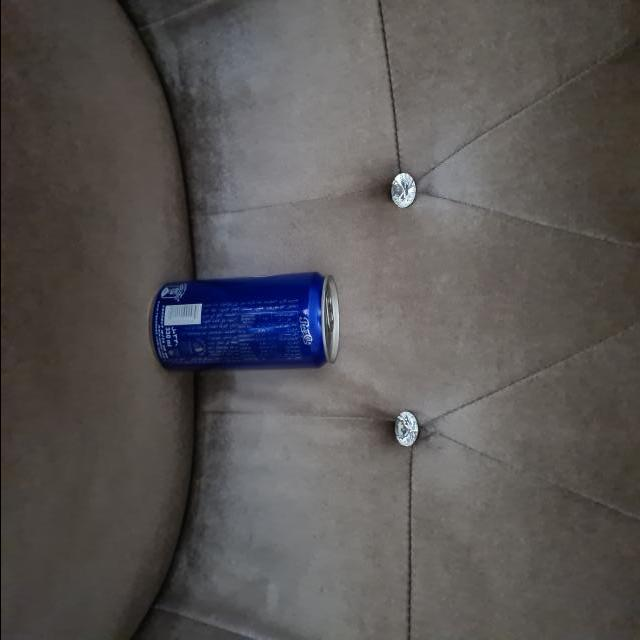can: (150, 272, 340, 377)
